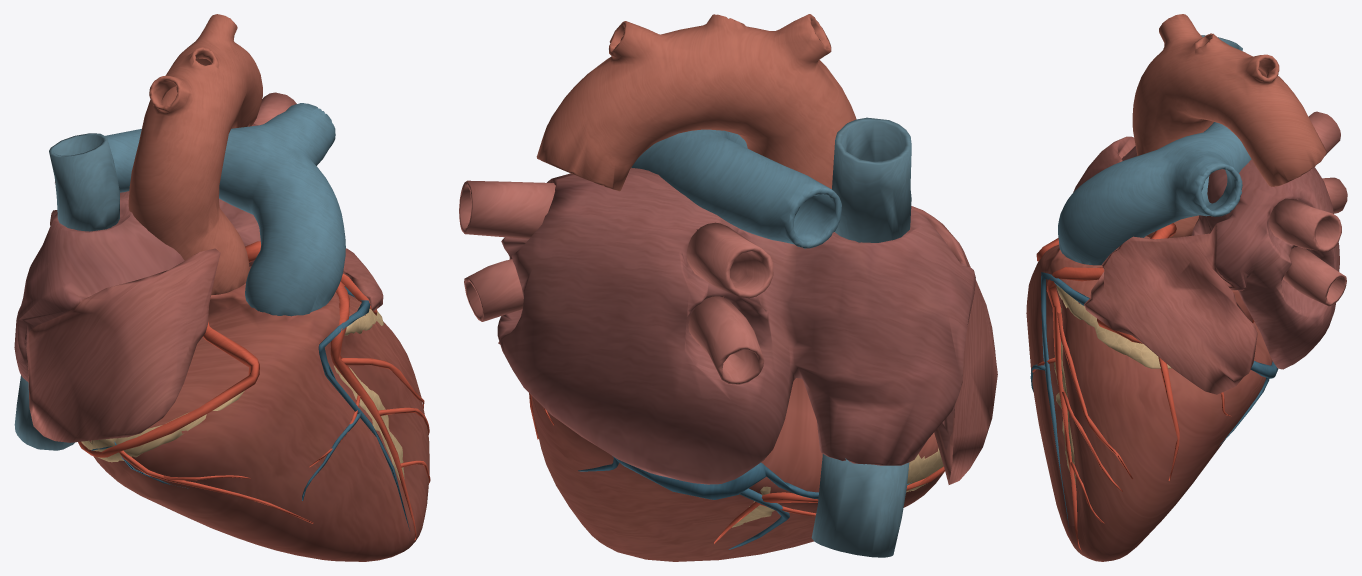
File: overview.glb
The picture shows the model from 3 angles, left to right: view 1: azimuth 30°, elevation 25°; view 2: azimuth 150°, elevation 25°; view 3: azimuth 270°, elevation 25°; orthographic projection. The views are drawn at different scales.
Parts seen in each view (by area): view 1: heart; view 2: heart; view 3: heart.
Part boxes in pixels (x1,y1,x2,y2): heart: (14, 14, 430, 561); heart: (459, 14, 997, 561); heart: (1026, 14, 1347, 561).
Bounding box in the file's own units: 0.0983 × 0.1272 × 0.0794.
Materials: 10 (10 with a texture image).
